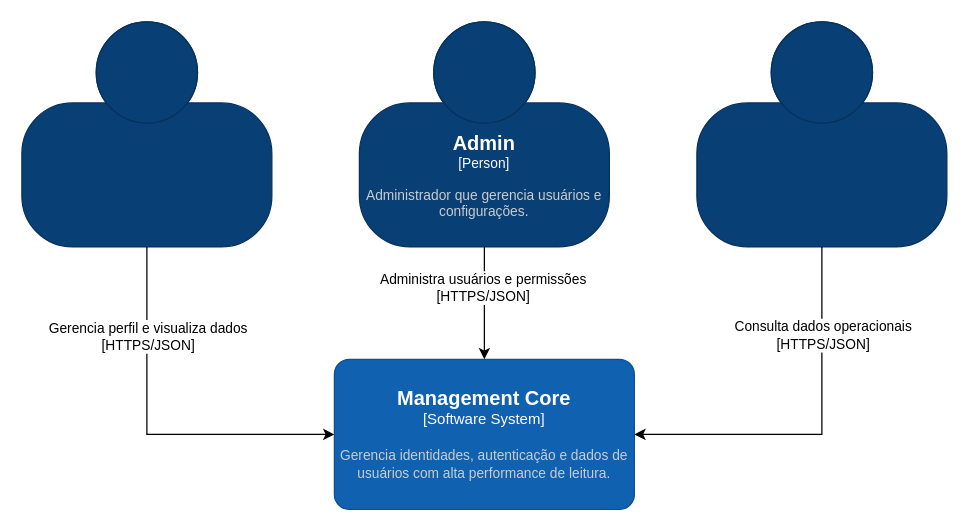
This 969x531 diagram has some shape labels left out. The shapes that lost their labels are listed below. From the top down, each one's centre as x and y in pixels, then its label:
At (x=146, y=134): "User [Person] Usuário final que acessa sua conta e dados pessoais.".
At (x=821, y=134): "Employee [Person] Funcionário que opera funcionalidades internas.".
